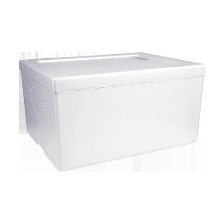foam_box: (11, 45, 212, 174)
